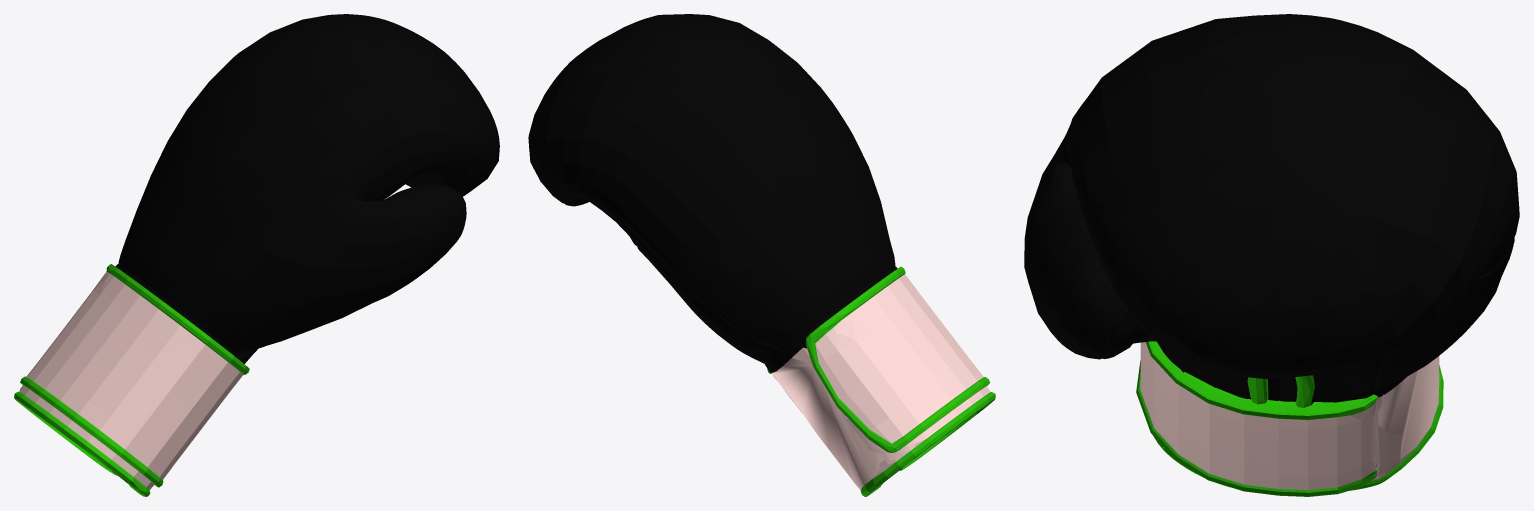
File: Sol_Yesil-_Siyah_Eldiven.fbx
3 renders of one model, left to right at view 1: azimuth 30°, elevation 25°; view 2: azimuth 150°, elevation 25°; view 3: azimuth 270°, elevation 25°, orthographic. The views are drawn at different scales.
Parts seen in each view (by area): view 1: 15969_Boxing_Glove_new; view 2: 15969_Boxing_Glove_new; view 3: 15969_Boxing_Glove_new.
Boxes of the visible parts, x1,y1,x2,y2 form: 15969_Boxing_Glove_new: [14, 14, 499, 496]; 15969_Boxing_Glove_new: [528, 14, 995, 496]; 15969_Boxing_Glove_new: [1024, 14, 1519, 496].
Bounding box in the file's own units: 2146 × 1903 × 1369.
